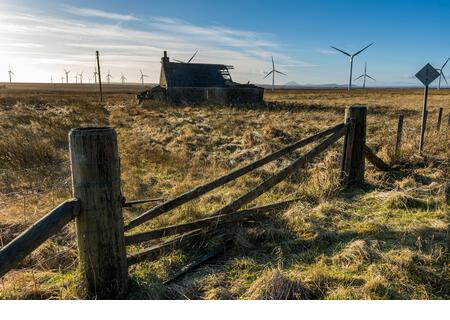working: (329, 39, 379, 63), (259, 54, 289, 83)
